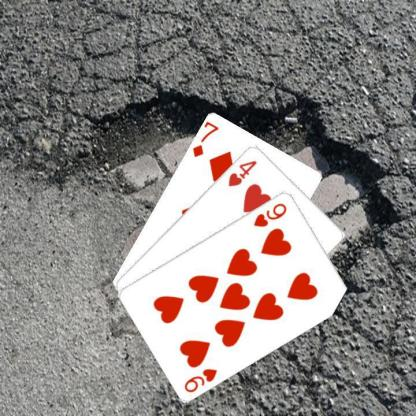4H: (226, 157, 258, 188)
7D: (190, 119, 220, 158)
9H: (182, 365, 218, 394), (251, 200, 288, 228)
